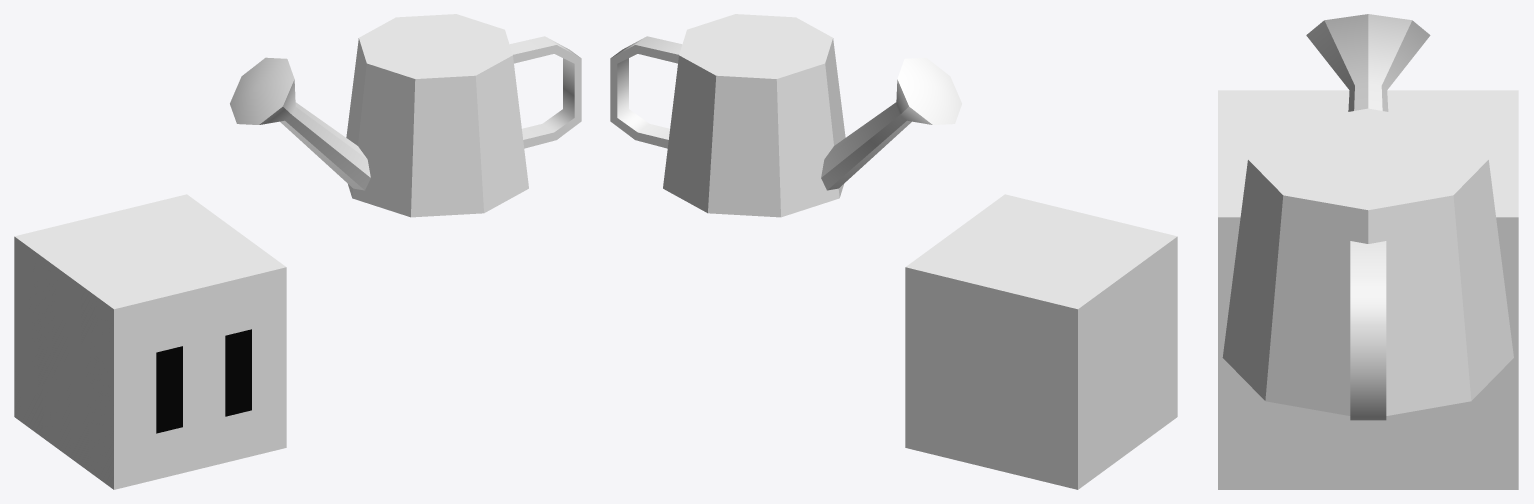
File: zyouro.obj
The picture shows the model from 3 angles, left to right: view 1: azimuth 30°, elevation 25°; view 2: azimuth 150°, elevation 25°; view 3: azimuth 270°, elevation 25°; orthographic projection. The views are drawn at different scales.
Visible parts, largest first — view 1: pCube1, pCylinder1, pCylinder2, pPlane4, pPlane1, pPlane2; view 2: pCube1, pCylinder1, pCylinder2, pPlane4, pPlane3; view 3: pCylinder1, pCube1, pCylinder2, pPlane4.
Part boxes in pixels (x1=…): pCube1: x1=14, y1=194, x2=286, y2=489; pCylinder1: x1=346, y1=14, x2=528, y2=217; pCylinder2: x1=230, y1=57, x2=370, y2=190; pPlane4: x1=509, y1=36, x2=581, y2=148; pPlane1: x1=156, y1=346, x2=182, y2=433; pPlane2: x1=225, y1=329, x2=251, y2=416; pCube1: x1=905, y1=194, x2=1177, y2=489; pCylinder1: x1=663, y1=14, x2=845, y2=217; pCylinder2: x1=821, y1=57, x2=961, y2=190; pPlane4: x1=610, y1=36, x2=682, y2=148; pPlane3: x1=974, y1=356, x2=1008, y2=400; pCylinder1: x1=1222, y1=108, x2=1513, y2=415; pCube1: x1=1218, y1=90, x2=1518, y2=489; pCylinder2: x1=1306, y1=14, x2=1430, y2=111; pPlane4: x1=1350, y1=241, x2=1386, y2=420.
Size of the model in its own units: 14.82 by 9.42 by 5.21.
2 materials, 1 textured.
